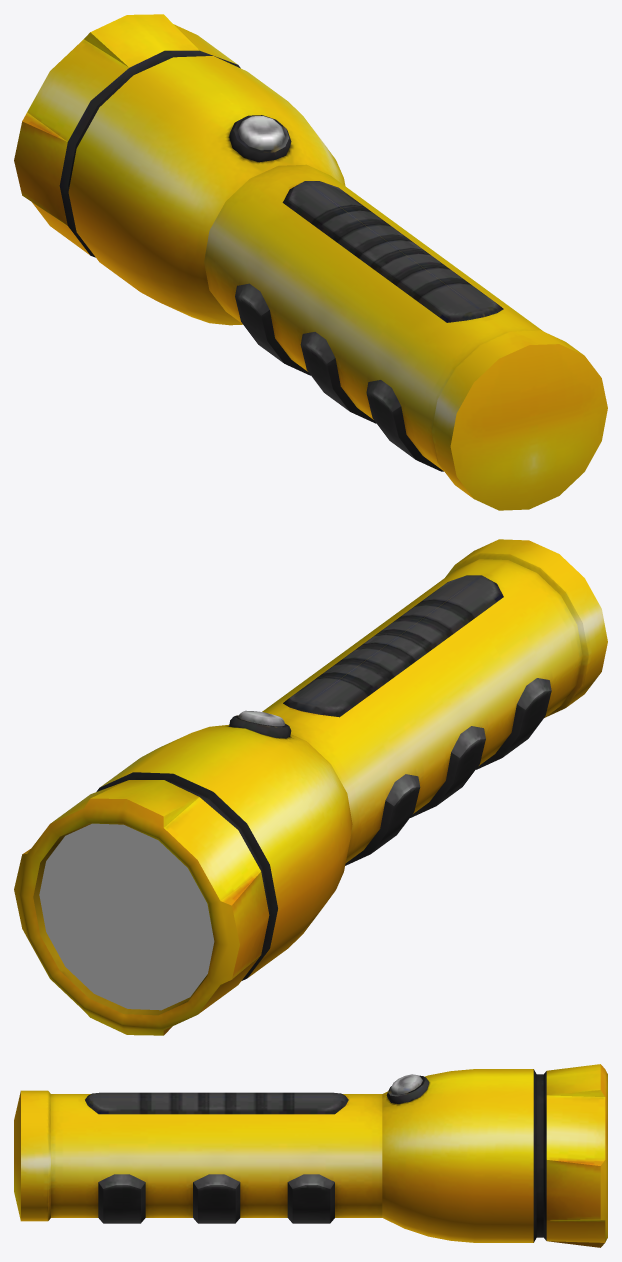
The model's file is flashlight.obj.
The picture shows the model from 3 angles, top to bottom: view 1: azimuth 30°, elevation 25°; view 2: azimuth 150°, elevation 25°; view 3: azimuth 270°, elevation 25°; orthographic projection. The views are drawn at different scales.
Visible parts, largest first — view 1: Handle1; view 2: Handle1, Glow1; view 3: Handle1.
Boxes of the visible parts, <box> form: Handle1: <box>14,14,607,510</box>; Handle1: <box>14,539,607,1035</box>; Glow1: <box>39,823,214,1010</box>; Handle1: <box>14,1064,607,1247</box>.
Bounding box in the file's own units: 0.554 × 0.5526 × 1.75.
2 materials, 1 textured.
